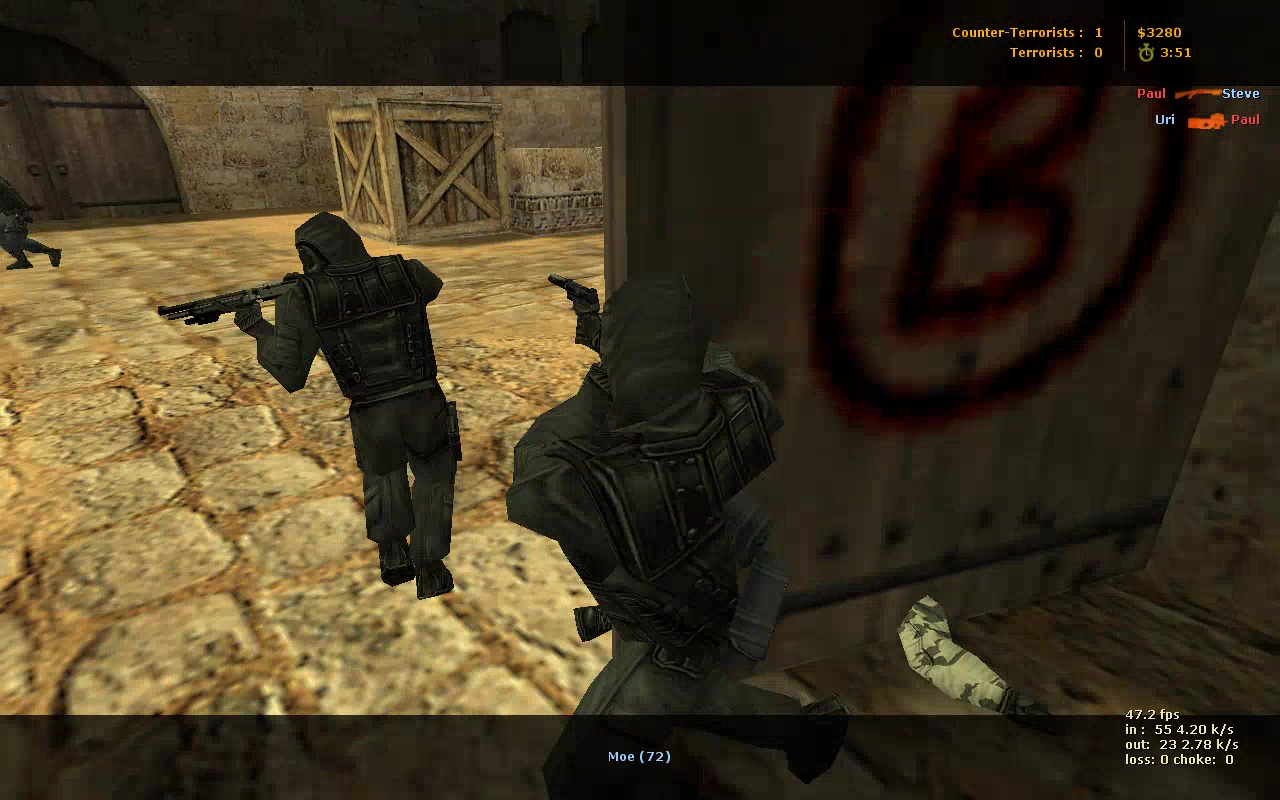ct: (514, 270, 844, 800), (161, 199, 466, 590), (1, 178, 62, 270)
